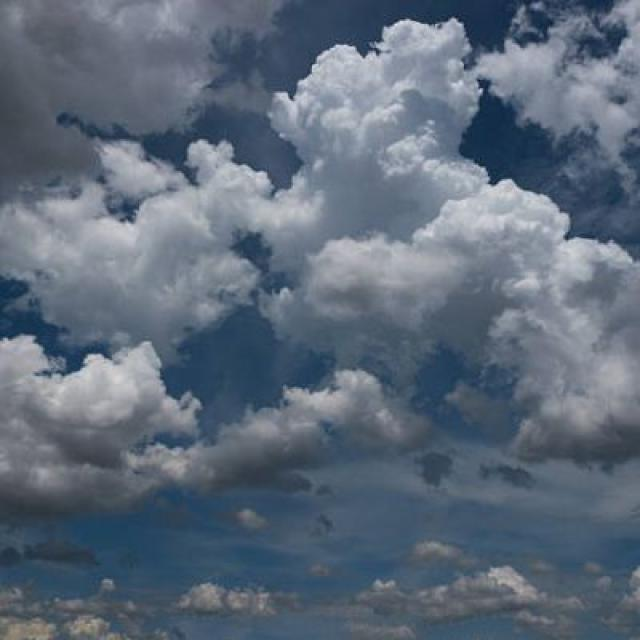Cs: (1, 9, 639, 528)
